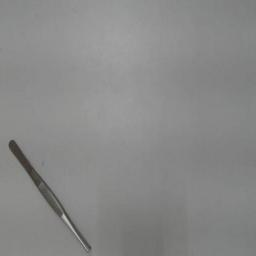Gillies Toothed Dissector: (4, 128, 92, 254)
